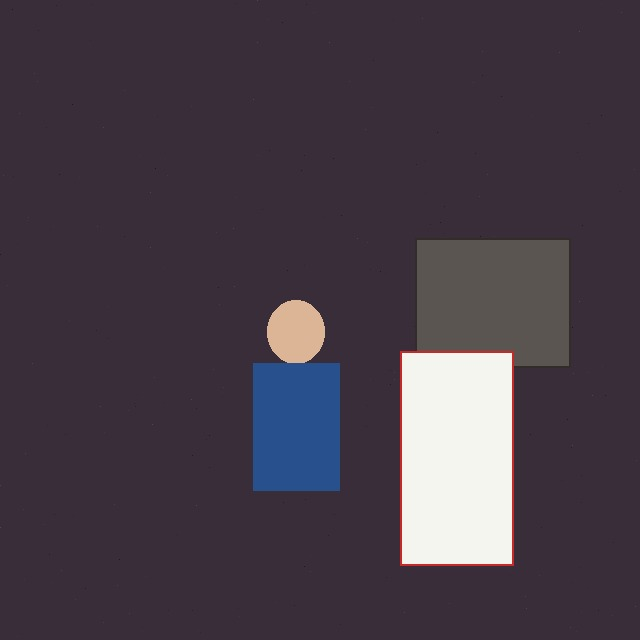book: (400, 351, 513, 565)
concrete_damage: (415, 238, 570, 367)
person: (210, 300, 382, 490)
